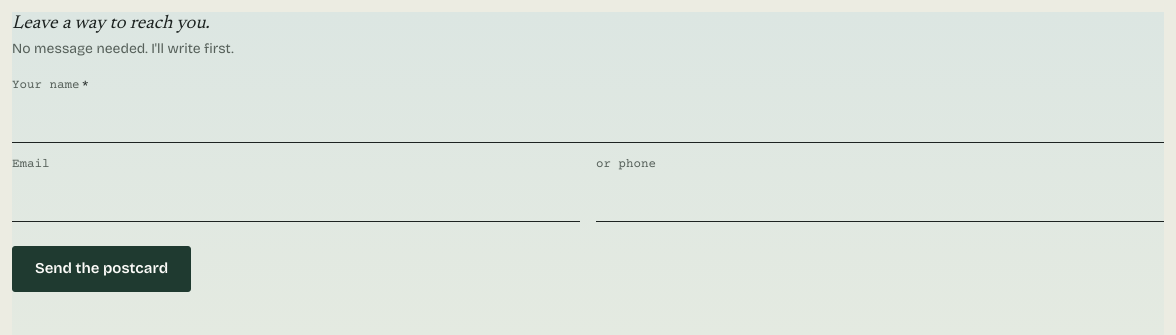
Test case: the lead form › posts an email-only lead, confirms on the card, clears, and tells the cats
In the field labelled "Your name*": (588, 121) [12,99,1164,143], type "Jamie"
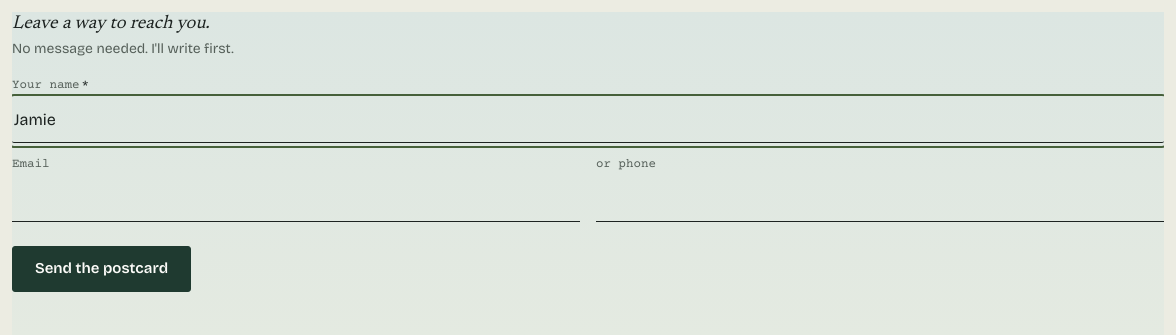
In the field labelled "Email": (296, 200) [12,178,580,222], type "jamie@example.com"
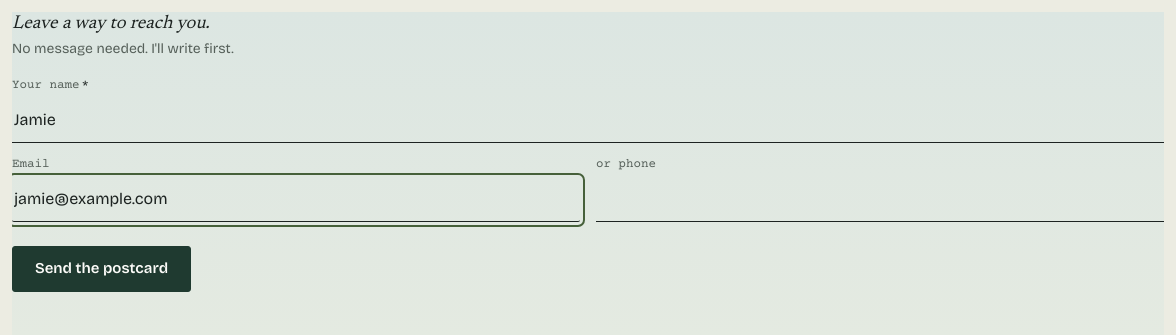
Click the button "Send the postcard": (102, 269) [12,246,191,292]
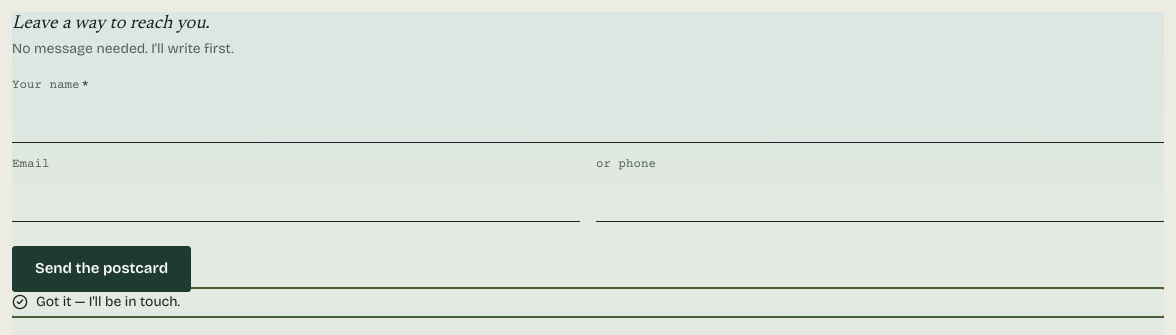
Result: the message reads "Got it — I'll be in touch." at [36,293,180,310]
Result: the field labelled "Your name*" is empty at [12,99,1164,143]
